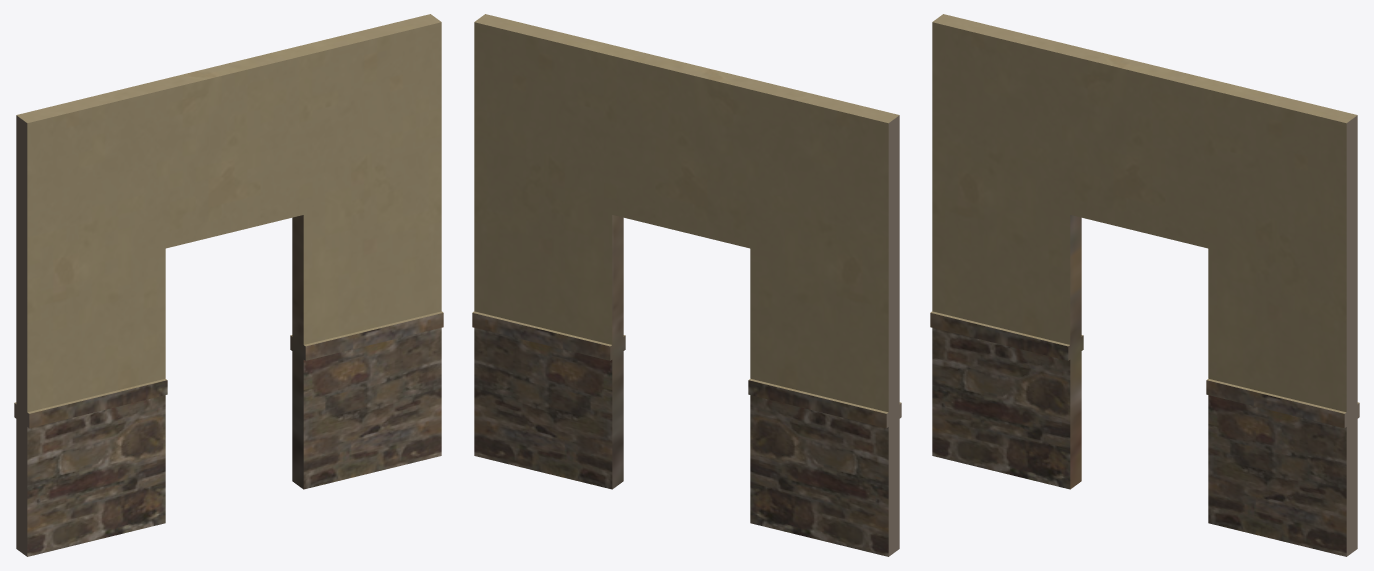
File: wall01_d01.glb
The picture shows the model from 3 angles, left to right: view 1: azimuth 30°, elevation 25°; view 2: azimuth 150°, elevation 25°; view 3: azimuth 330°, elevation 25°; orthographic projection.
Parts seen in each view (by area): view 1: wall01_d01; view 2: wall01_d01; view 3: wall01_d01.
Boxes of the visible parts, left/top/right/bottom form: wall01_d01: left=14, top=14, right=443, bottom=556; wall01_d01: left=472, top=14, right=901, bottom=556; wall01_d01: left=930, top=14, right=1359, bottom=556.
Bounding box in the file's own units: 3 × 3 × 0.19.
Materials: 2 (2 with a texture image).
